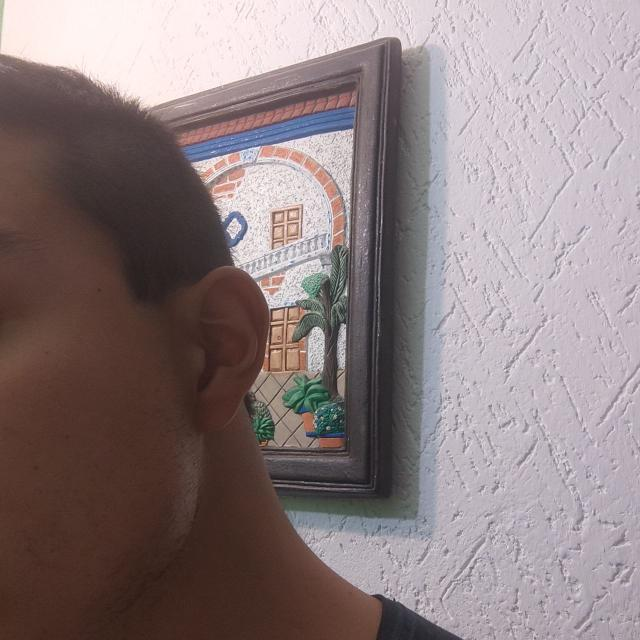ear: (166, 266, 269, 432)
